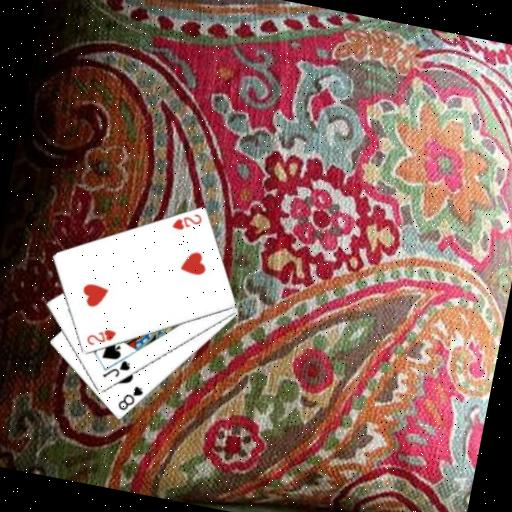2H: (82, 323, 118, 352), (168, 207, 204, 236)
8S: (114, 380, 146, 415)
JS: (99, 353, 133, 384)
